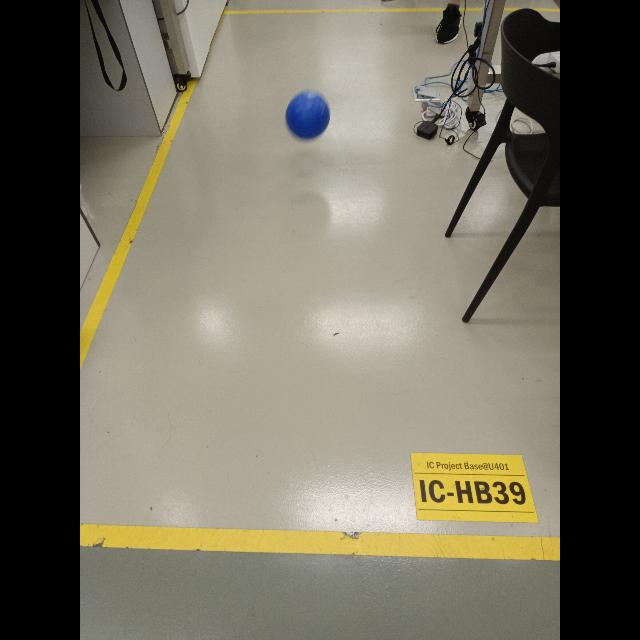B: (286, 90, 328, 140)
